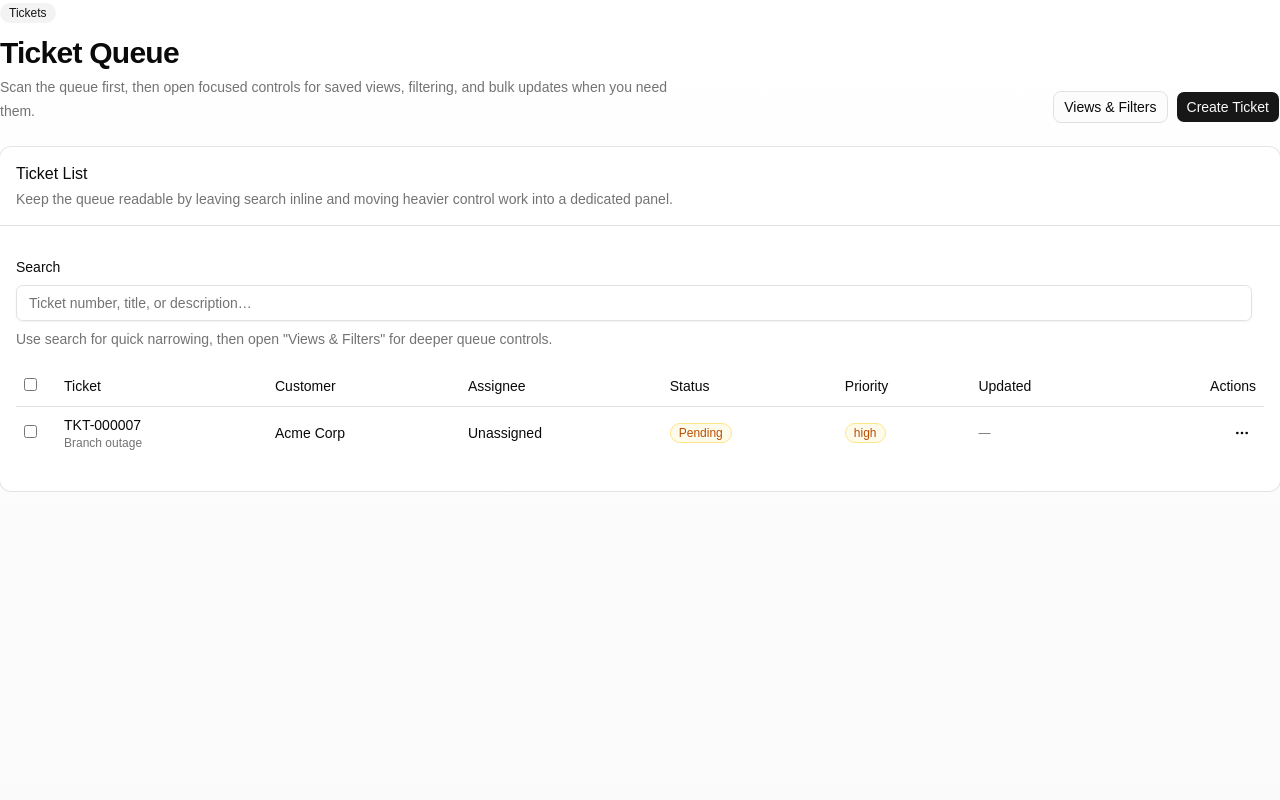
Scenario: TicketsPage interactions › opens focused assignee control from the ticket list for users who can manage tickets
The image size is (1280, 800).
Expected: the text "Pending" is shown, [670,423,732,443]
Click the button named "Actions for TKT-000007" at [1242, 433], box [1228,419,1256,447]
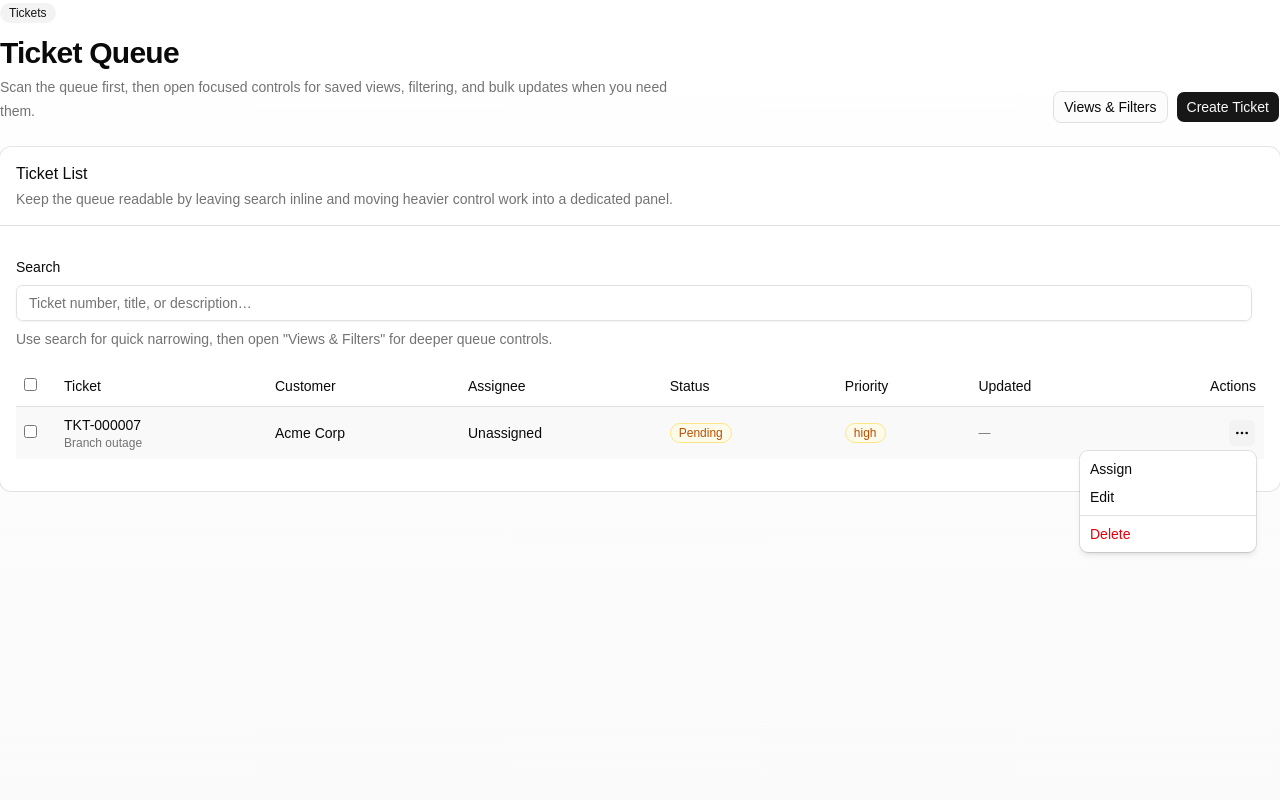
Expected: the menu item "Assign" is shown
Click the menu item "Assign" at [1111, 469], box [1090,461,1132,477]
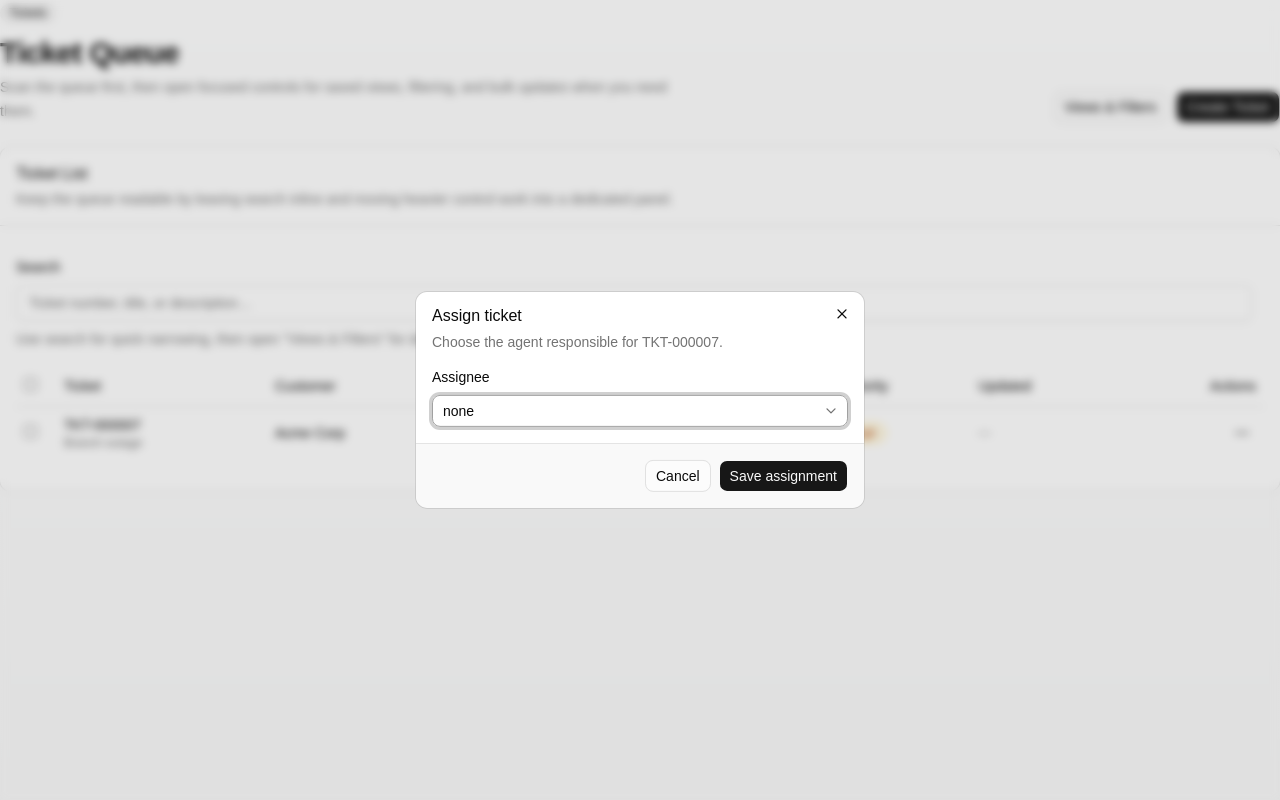
Expected: the dropdown named "Assign TKT-000007" is shown, [432,395,848,427]
